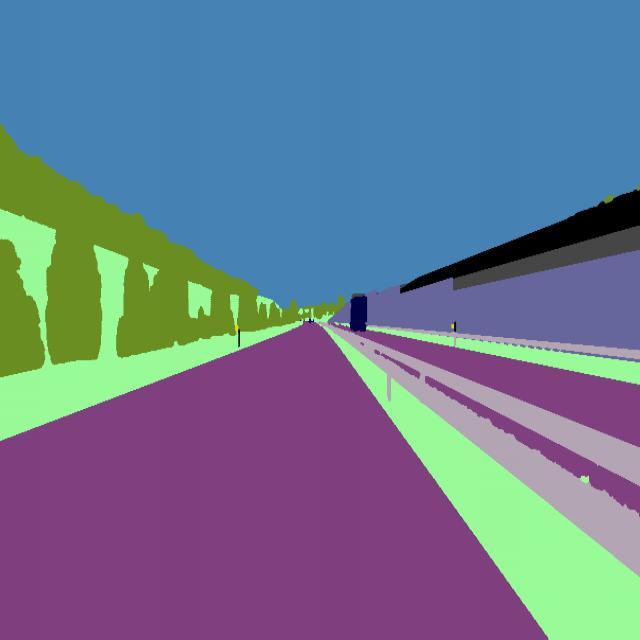safe: (350, 291, 369, 341)
